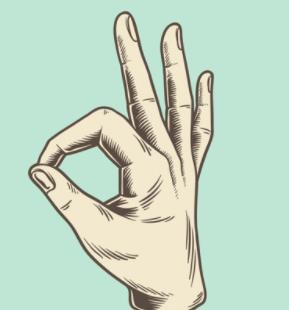left: (23, 7, 220, 288)
